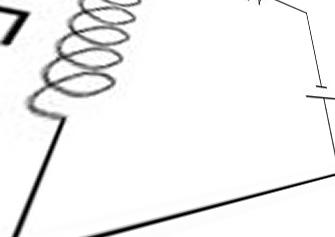inductor: (26, 0, 149, 123)
